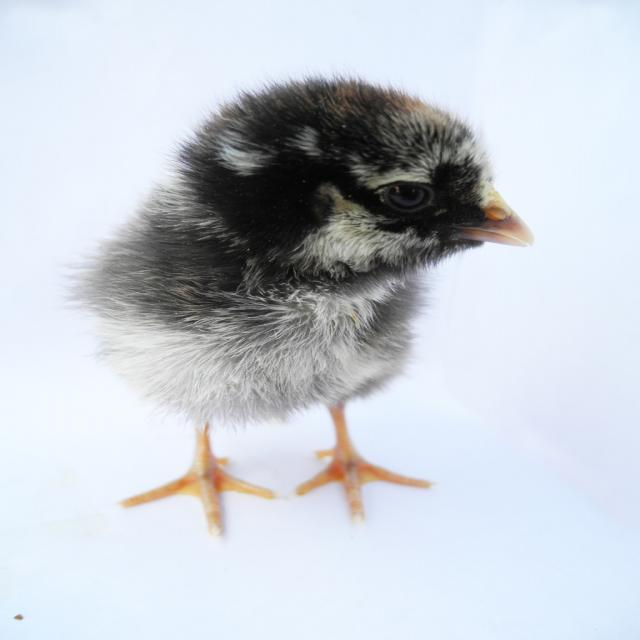Chicken: (67, 70, 520, 526)
